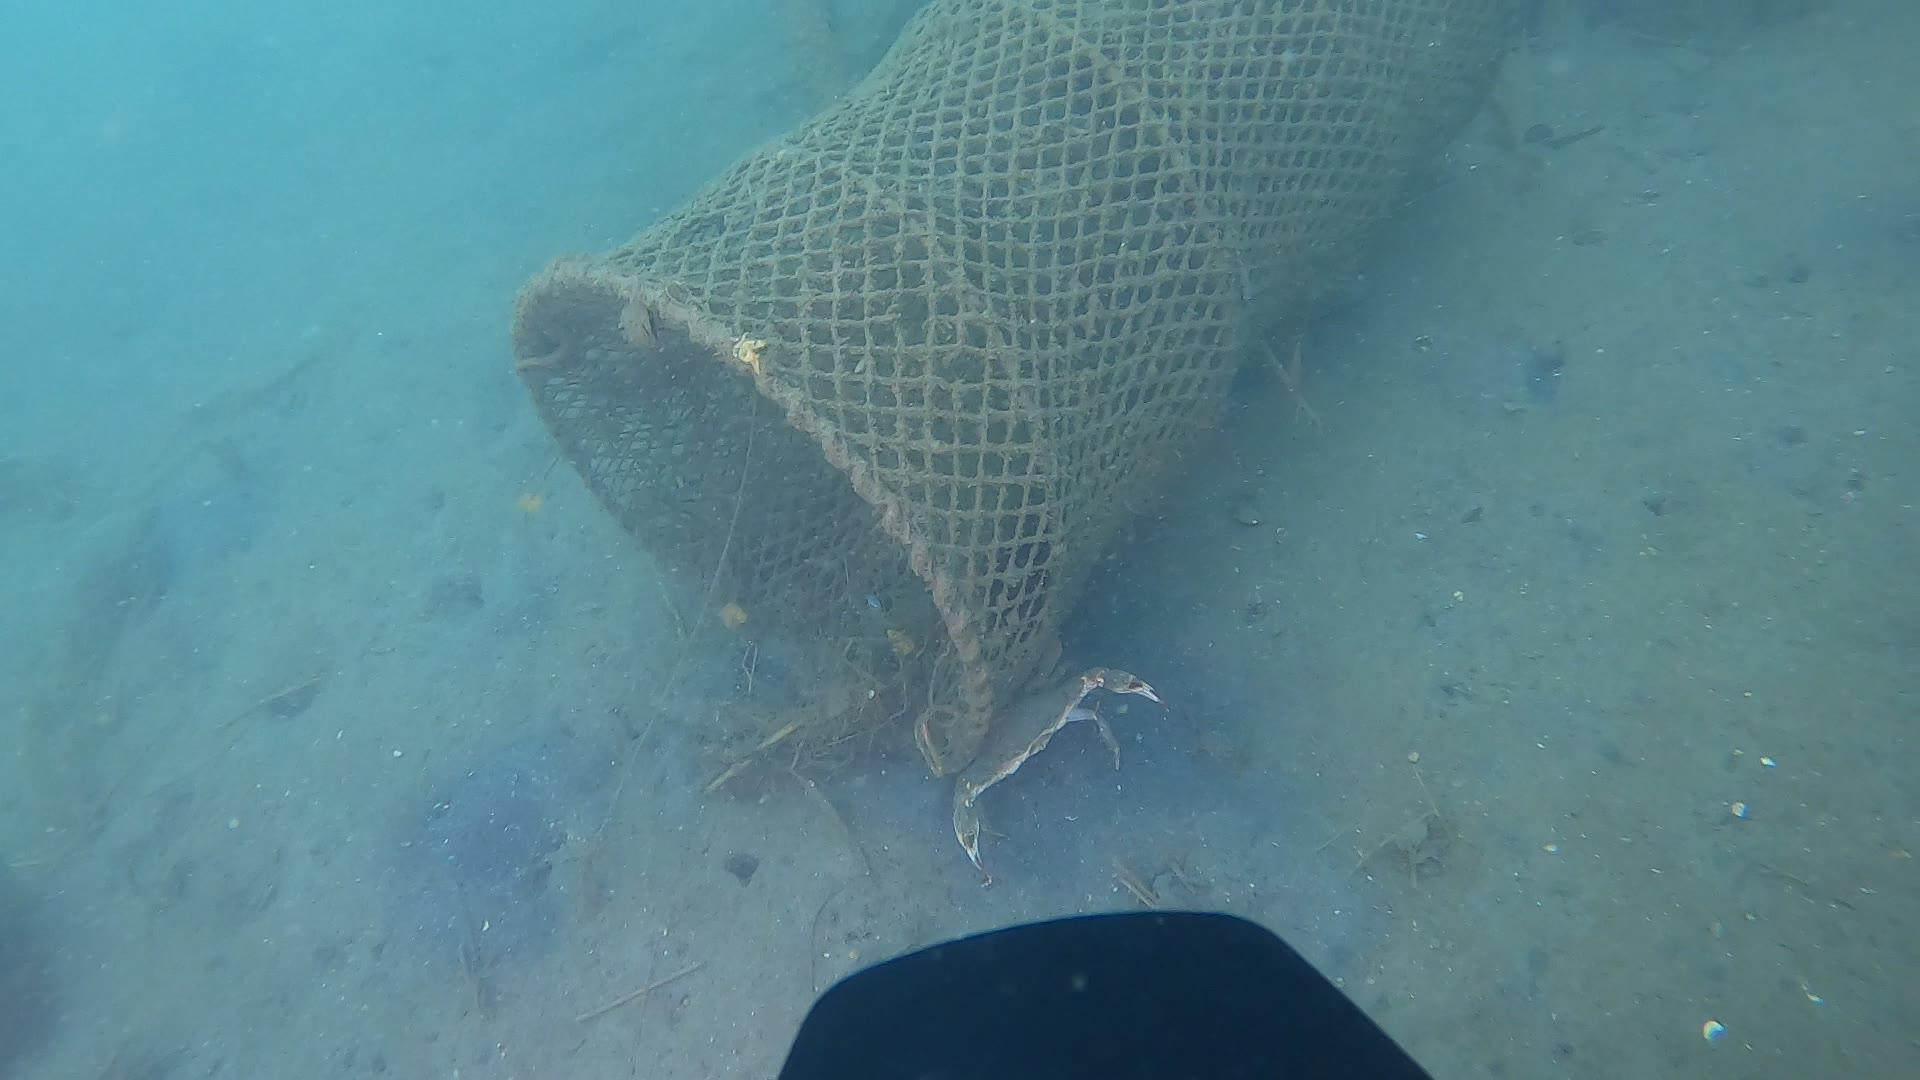spring fish trap: (508, 3, 1526, 778)
